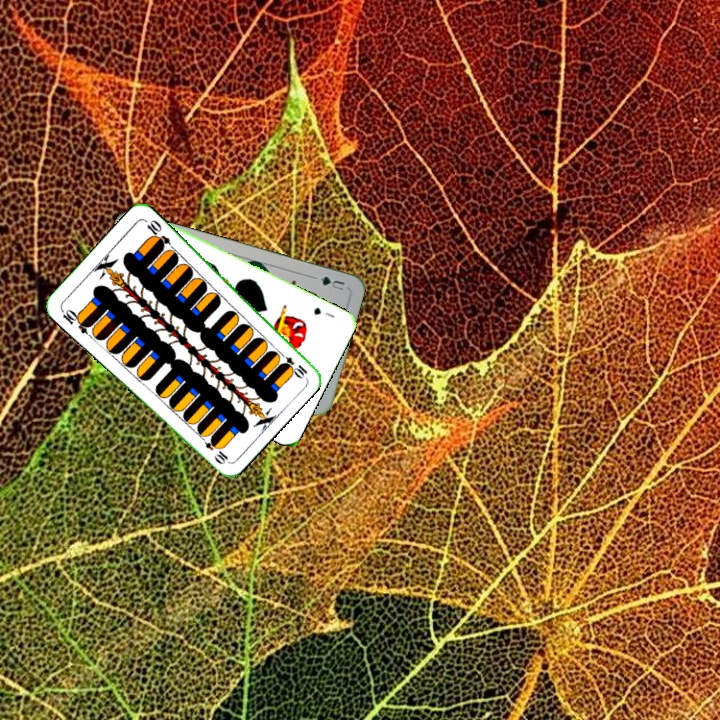E10: (57, 305, 93, 337), (275, 348, 310, 379)
GU: (316, 272, 347, 293), (310, 303, 337, 320)
